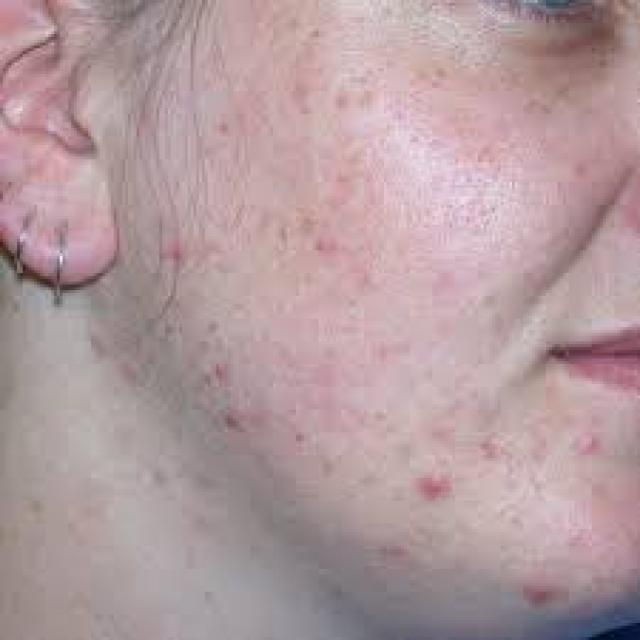Acne: (228, 295, 560, 468), (246, 140, 469, 266), (265, 44, 411, 139), (291, 199, 390, 316), (166, 341, 267, 444), (310, 342, 411, 421), (126, 204, 225, 278), (451, 112, 534, 199), (92, 319, 174, 403), (387, 455, 493, 517), (403, 264, 514, 311), (286, 431, 360, 501), (569, 411, 615, 472), (523, 577, 564, 635)
